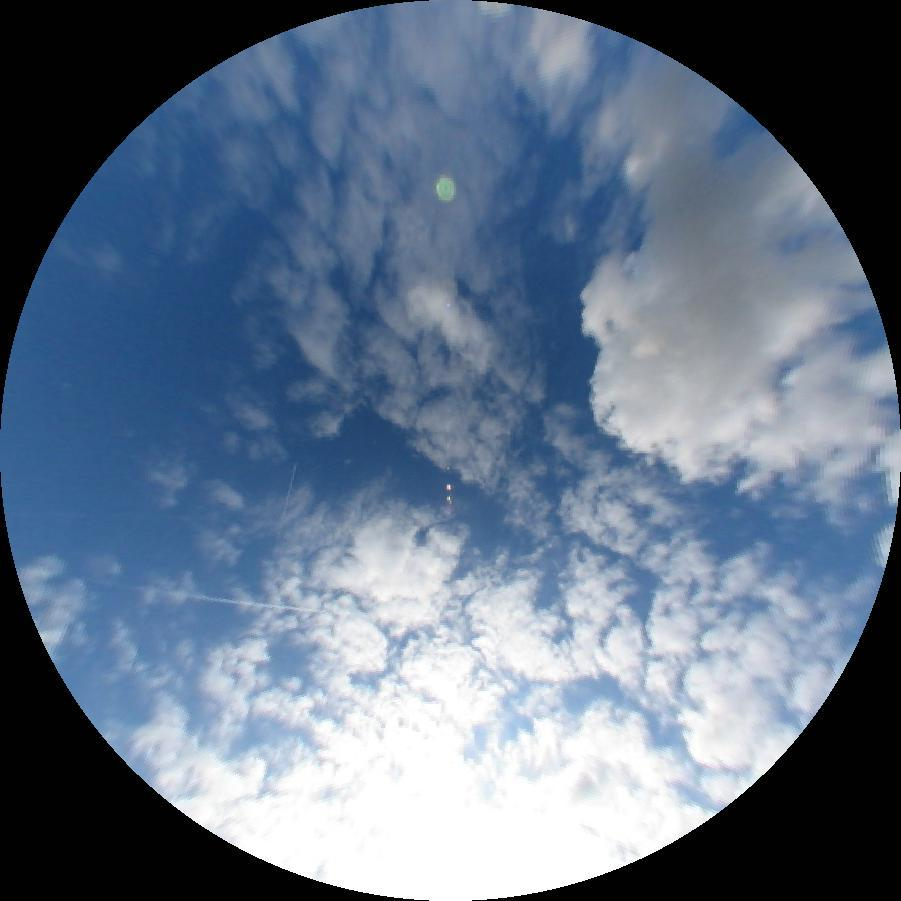contrail young: (87, 577, 325, 618), (269, 463, 299, 568)
sun: (376, 785, 594, 901)
